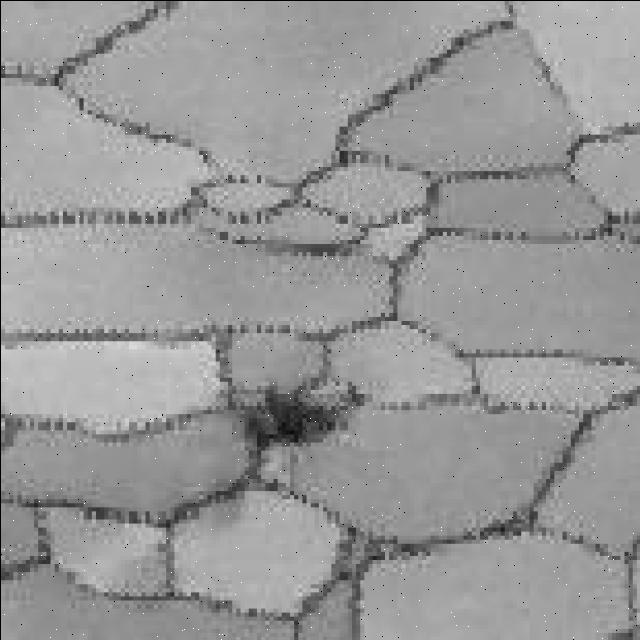good_void: (243, 382, 365, 458)
